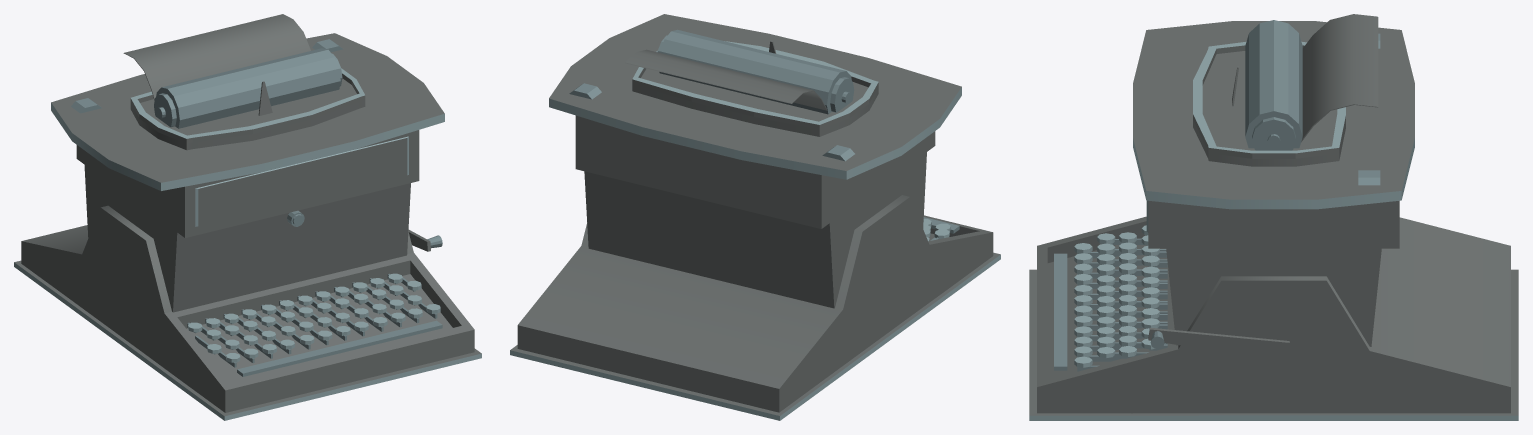
Rendered from Maquina.fbx.
The picture shows the model from 3 angles, left to right: view 1: azimuth 30°, elevation 25°; view 2: azimuth 150°, elevation 25°; view 3: azimuth 270°, elevation 25°; orthographic projection. The views are drawn at different scales.
Parts seen in each view (by area): view 1: pCube1, pCube2, pCube3, pCylinder1, pCube5, pCube4, Teclas, Espacio; view 2: pCube1, pCube2, pCube3, pCube4, pCylinder1, pCube5; view 3: pCube1, pCube3, pCube2, pCube4, Teclas, pCylinder1, pCube5, pCube59, Espacio.
Boxes of the visible parts, x1=… form: pCube1: x1=14, y1=205, x2=481, y2=420; pCube2: x1=76, y1=130, x2=419, y2=312; pCube3: x1=51, y1=33, x2=444, y2=190; pCylinder1: x1=154, y1=48, x2=342, y2=128; pCube5: x1=123, y1=14, x2=310, y2=100; pCube4: x1=130, y1=68, x2=365, y2=150; Teclas: x1=188, y1=273, x2=440, y2=362; Espacio: x1=237, y1=320, x2=442, y2=376; pCube1: x1=510, y1=195, x2=1000, y2=420; pCube2: x1=575, y1=115, x2=935, y2=308; pCube3: x1=549, y1=14, x2=961, y2=179; pCube4: x1=632, y1=41, x2=878, y2=136; pCylinder1: x1=657, y1=29, x2=854, y2=114; pCube5: x1=625, y1=49, x2=826, y2=110; pCube1: x1=1029, y1=216, x2=1518, y2=420; pCube3: x1=1133, y1=21, x2=1414, y2=209; pCube2: x1=1146, y1=200, x2=1399, y2=346; pCube4: x1=1193, y1=41, x2=1345, y2=166; Teclas: x1=1074, y1=225, x2=1159, y2=367; pCylinder1: x1=1245, y1=20, x2=1302, y2=150; pCube5: x1=1301, y1=14, x2=1378, y2=142; pCube59: x1=1148, y1=327, x2=1289, y2=362; Espacio: x1=1054, y1=253, x2=1067, y2=370.
Bounding box in the file's own units: 14.73 × 11.11 × 17.04.
